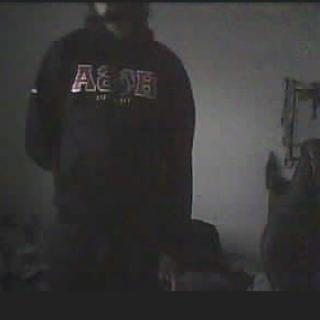HOSA hoodie: (33, 28, 193, 236)
Navy Sweatpants: (54, 234, 162, 320)
